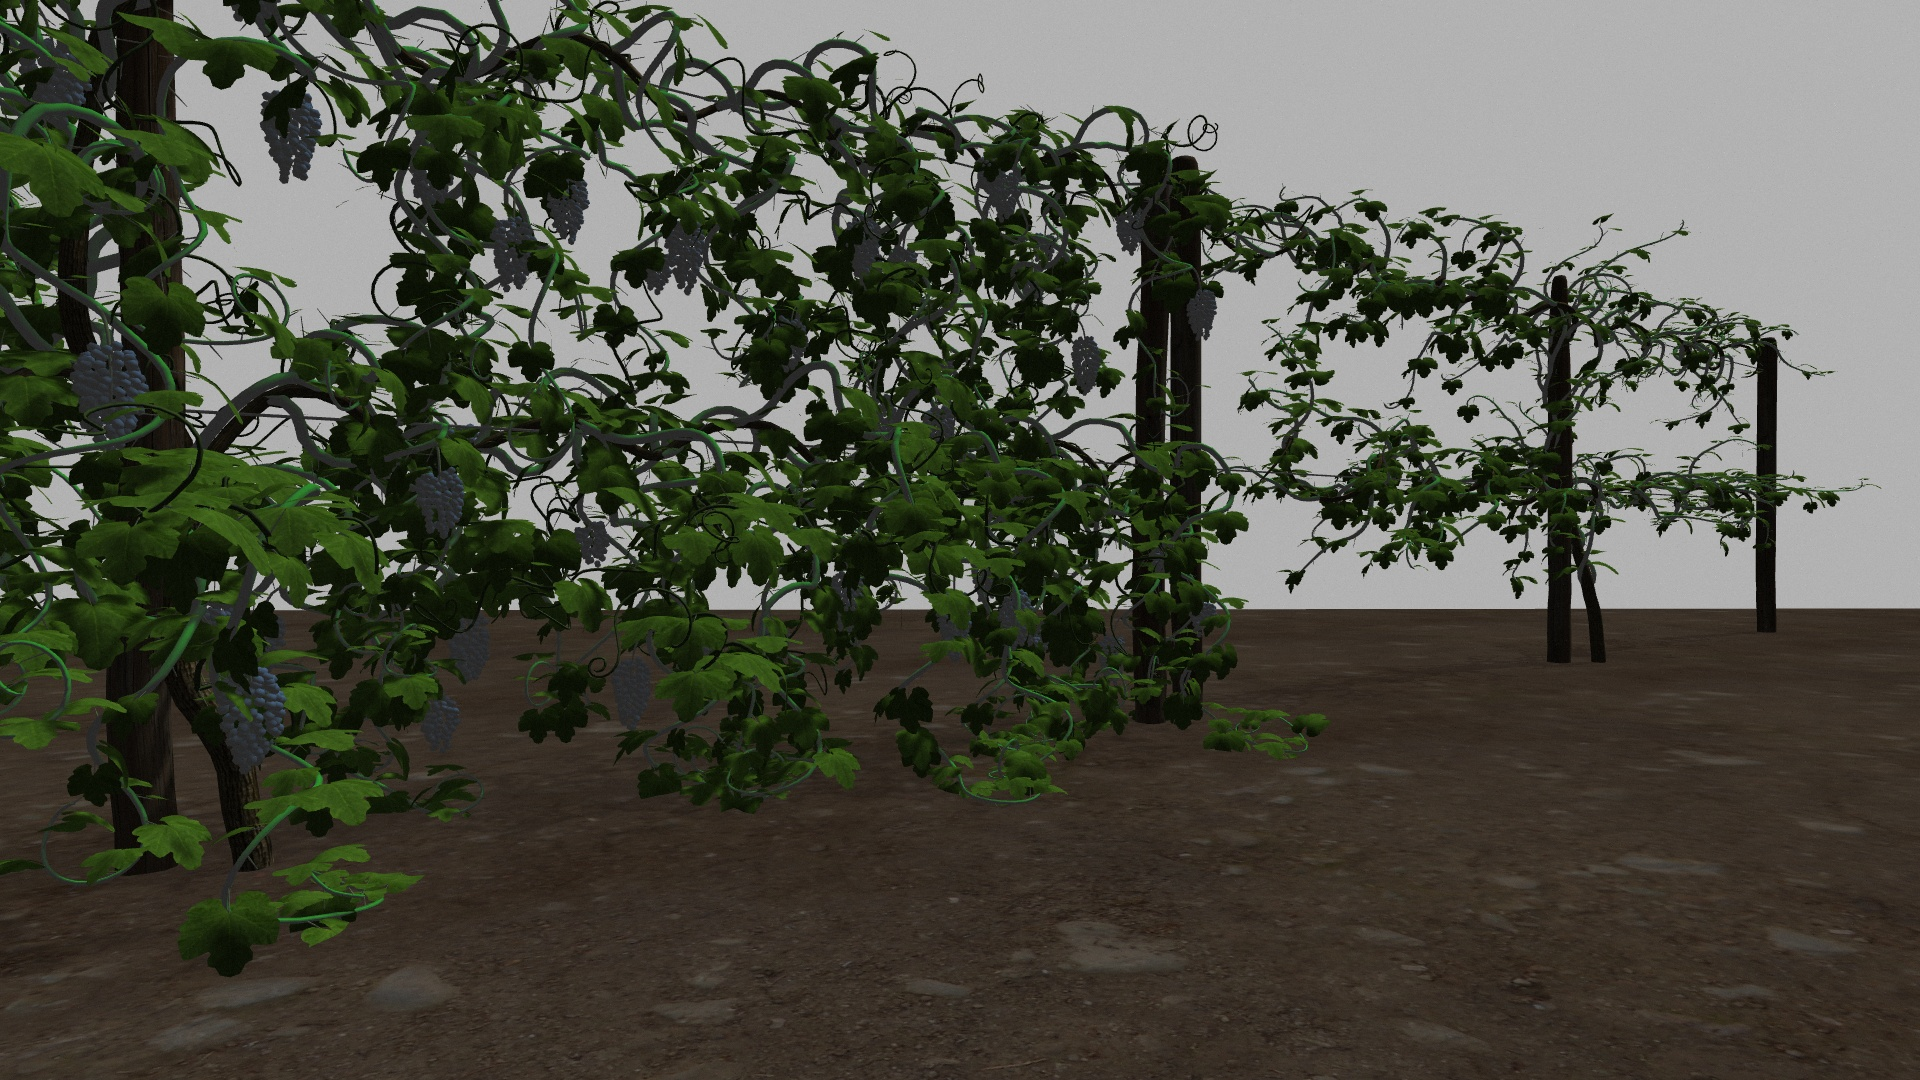grape: (214, 665, 287, 775), (71, 342, 149, 439), (260, 84, 320, 185), (415, 471, 469, 542), (611, 655, 659, 731), (491, 216, 537, 291), (546, 170, 589, 244), (666, 219, 709, 293), (451, 611, 491, 683), (419, 694, 462, 753), (982, 164, 1021, 224), (848, 219, 885, 276), (1071, 336, 1105, 396), (1000, 589, 1034, 647), (576, 522, 613, 571), (1116, 206, 1146, 257), (1187, 291, 1216, 342)
